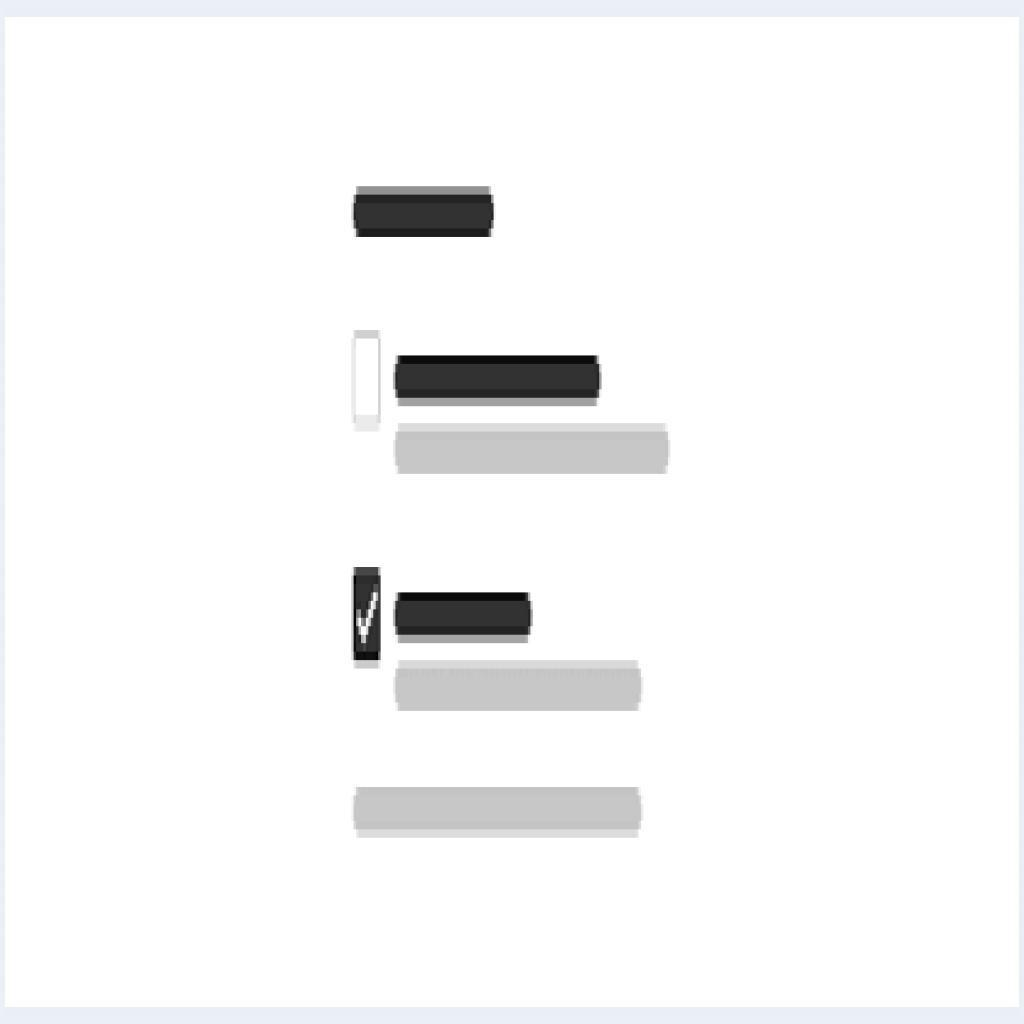checkbox: (351, 568, 384, 670), (353, 332, 384, 433)
